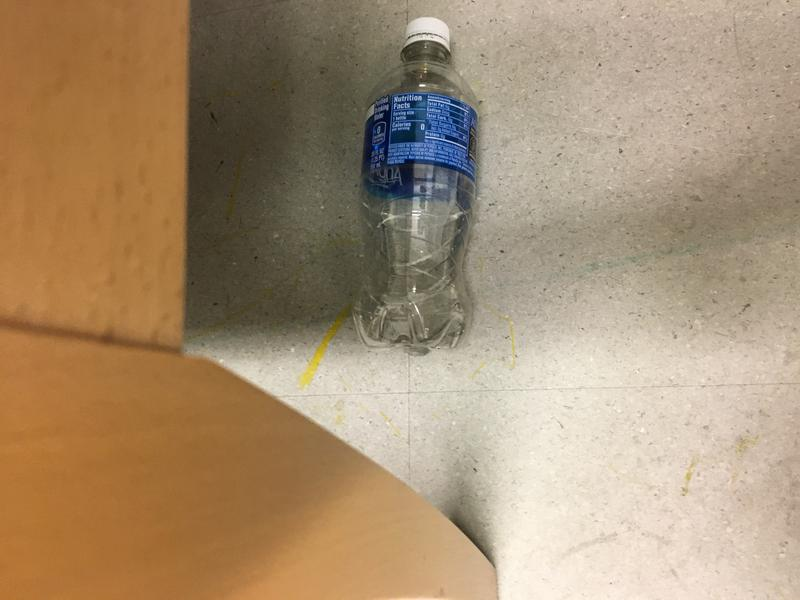bottle: (350, 15, 482, 359)
